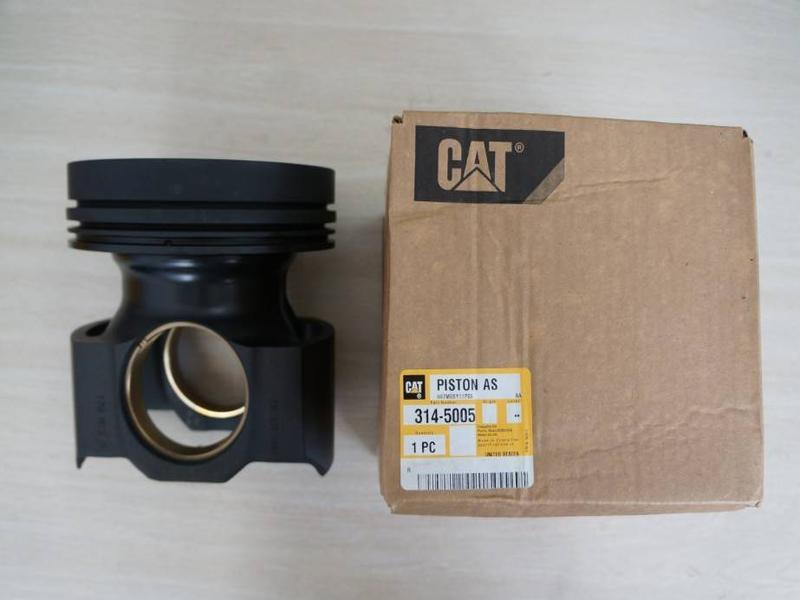piston: (60, 153, 342, 490)
